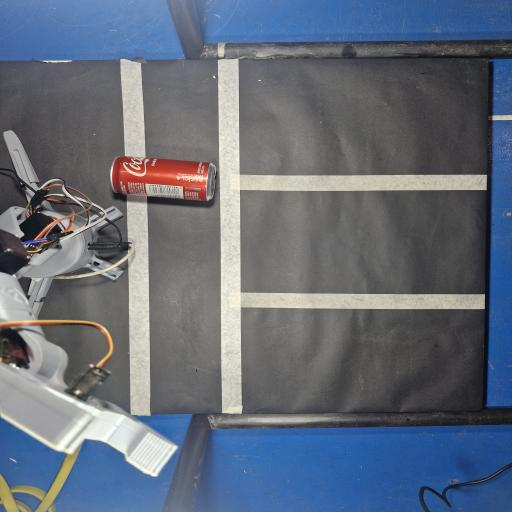lata: (110, 156, 216, 201)
